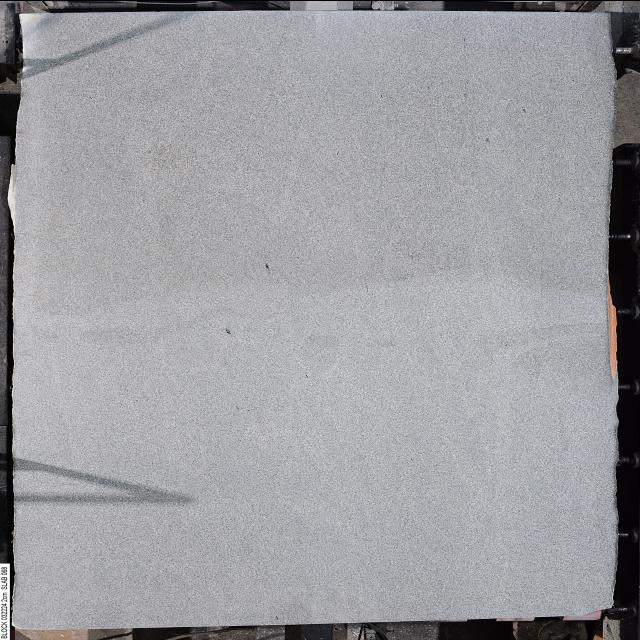chapa: (14, 10, 617, 628)
